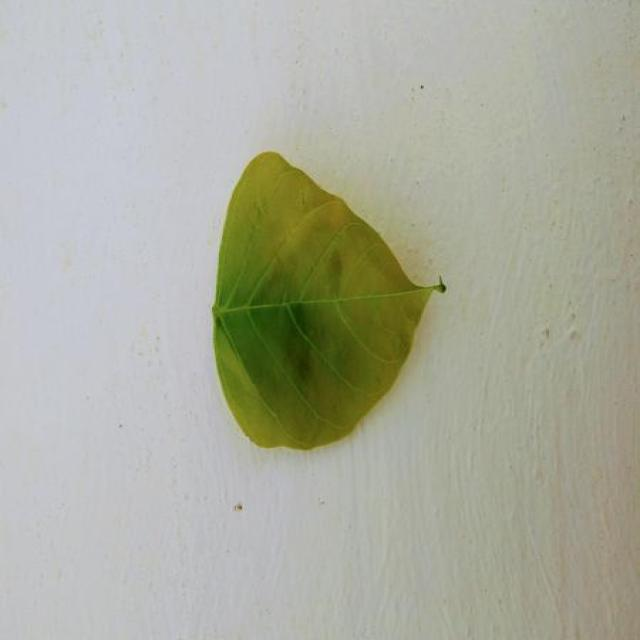honge: (213, 152, 447, 448)
leaf spot: (215, 152, 417, 308)
